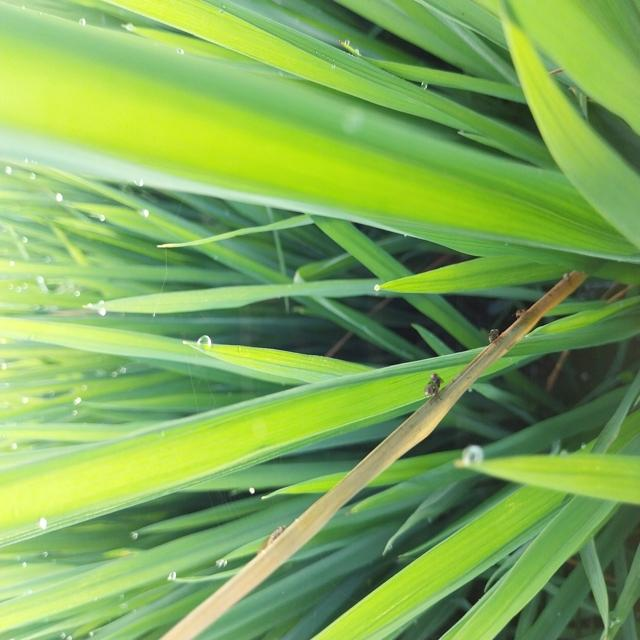healthy: (419, 366, 461, 404), (478, 326, 513, 348), (558, 264, 580, 287), (511, 299, 530, 325)
